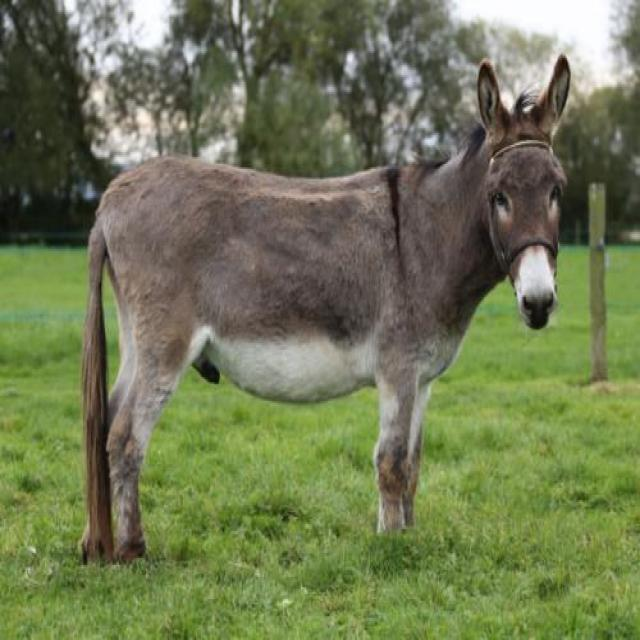Donkey: (84, 53, 573, 561)
